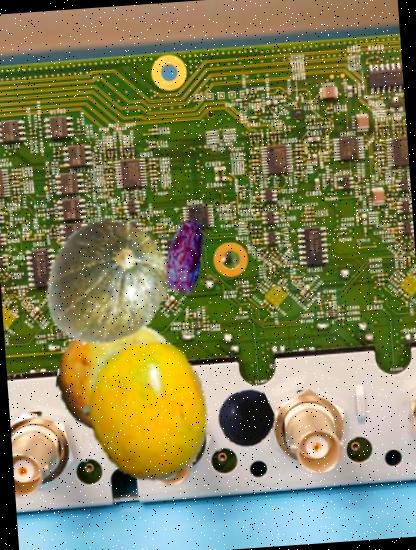Dates: (143, 216, 224, 297)
Grape: (216, 389, 275, 448)
Maracuja: (72, 334, 224, 488)
Melon: (34, 207, 180, 352)
Quince: (52, 314, 185, 448)
